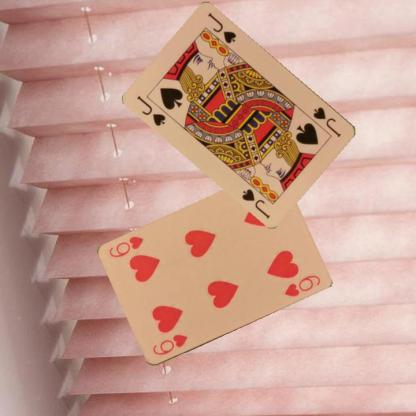6h: (150, 332, 189, 357)
Js: (134, 92, 168, 128), (310, 104, 342, 139)
